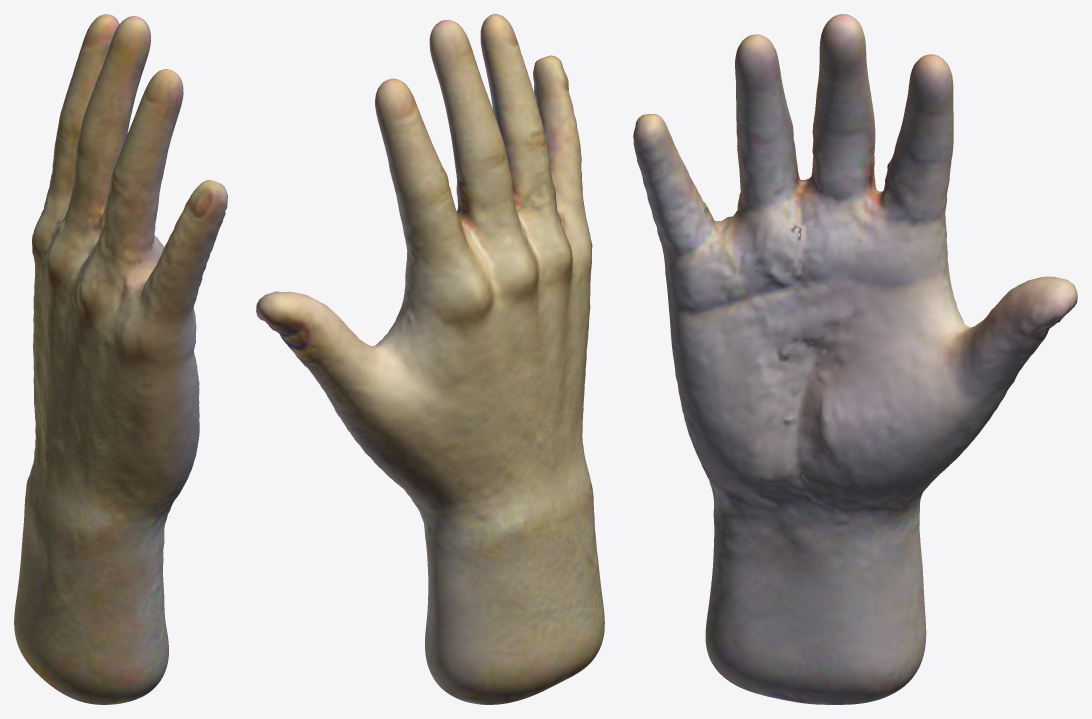
The model's file is hand.glb.
3 renders of one model, left to right at view 1: azimuth 30°, elevation 25°; view 2: azimuth 150°, elevation 25°; view 3: azimuth 270°, elevation 25°, orthographic. The views are drawn at different scales.
Parts seen in each view (by area): view 1: Mesh1; view 2: Mesh1; view 3: Mesh1.
Boxes of the visible parts, x1=… form: Mesh1: x1=14, y1=14, x2=227, y2=704; Mesh1: x1=256, y1=14, x2=604, y2=704; Mesh1: x1=633, y1=14, x2=1077, y2=704.
Size of the model in its own units: 0.4029 by 1.2 by 0.6848.
Materials: 1 (1 with a texture image).
